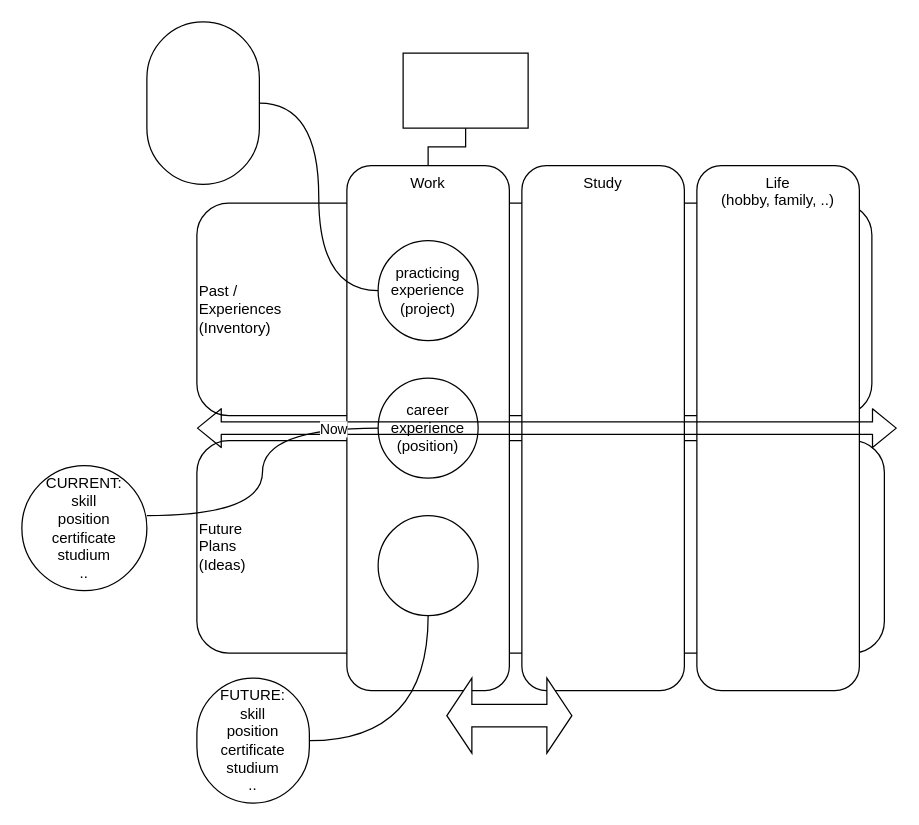
Some shapes in this 919 by 825 pixel diagram are drawn without their labels. The shapes that lost their labels are listed below. From the top down, each one's centre as x and y in pixels, then its label:
(x=202, y=102): PAST: skill position certificate studium course project ...
(x=465, y=90): mental account
(x=427, y=565): learning experience (course)
(x=509, y=715): balance
